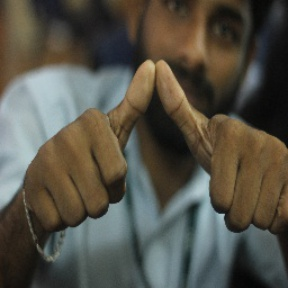A: (72, 54, 251, 214)
